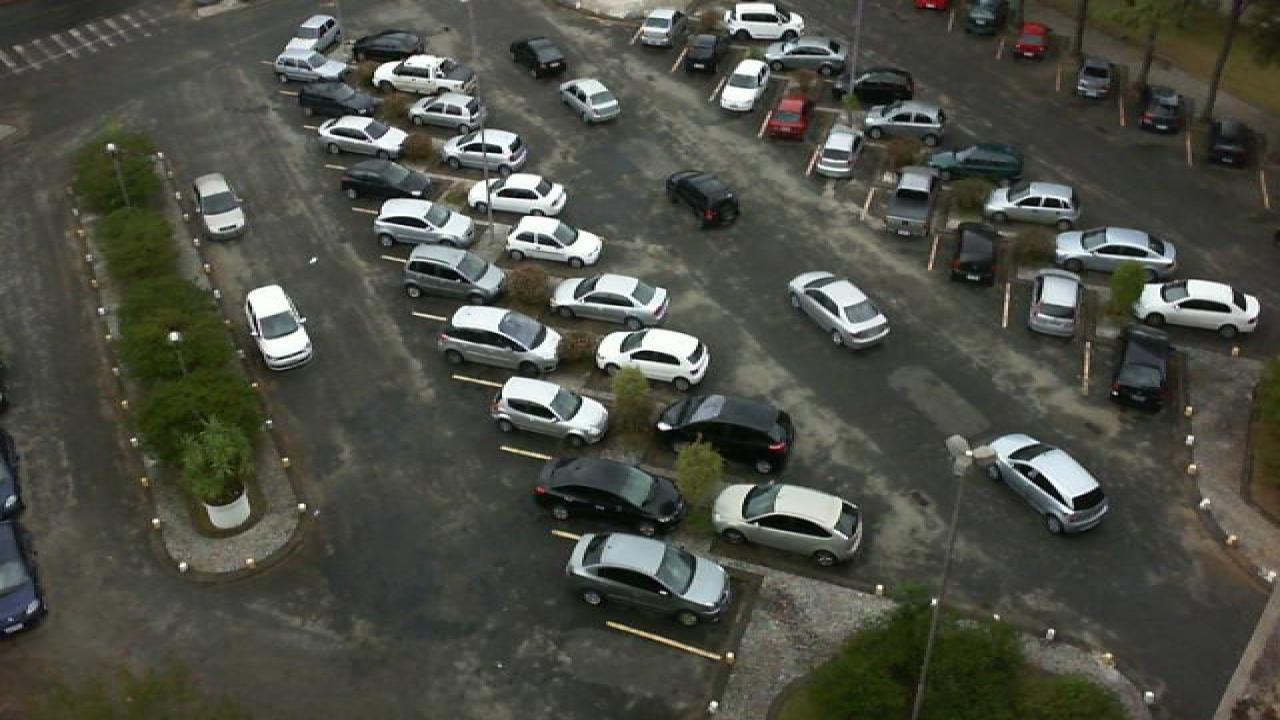Car: (564, 531, 732, 627), (710, 479, 868, 567), (988, 432, 1112, 536), (532, 456, 686, 536), (652, 391, 798, 474), (436, 304, 564, 378), (490, 374, 610, 446), (788, 270, 892, 351), (1130, 276, 1264, 338), (594, 325, 712, 394), (550, 272, 672, 330), (1052, 224, 1178, 277), (400, 245, 504, 307), (244, 284, 316, 371), (370, 196, 476, 254), (504, 214, 606, 270), (1110, 324, 1170, 413), (464, 171, 570, 218), (982, 181, 1080, 230), (664, 169, 740, 228), (1026, 266, 1086, 340), (314, 114, 410, 160), (880, 166, 940, 238), (340, 156, 428, 205), (860, 99, 948, 146), (368, 54, 472, 93), (440, 126, 528, 172), (946, 221, 1004, 290), (194, 172, 250, 241), (720, 0, 806, 43), (408, 88, 490, 132), (926, 142, 1022, 179), (760, 38, 848, 74), (718, 57, 772, 115), (294, 80, 374, 119), (808, 126, 864, 180), (848, 66, 918, 108), (760, 89, 814, 143), (558, 78, 620, 124), (350, 30, 432, 64), (510, 36, 568, 79), (272, 52, 346, 84), (288, 14, 342, 57), (678, 30, 724, 76), (1208, 119, 1250, 169), (1138, 86, 1182, 132), (632, 7, 682, 47), (1074, 56, 1114, 99), (1012, 21, 1052, 62), (964, 0, 1008, 36)
